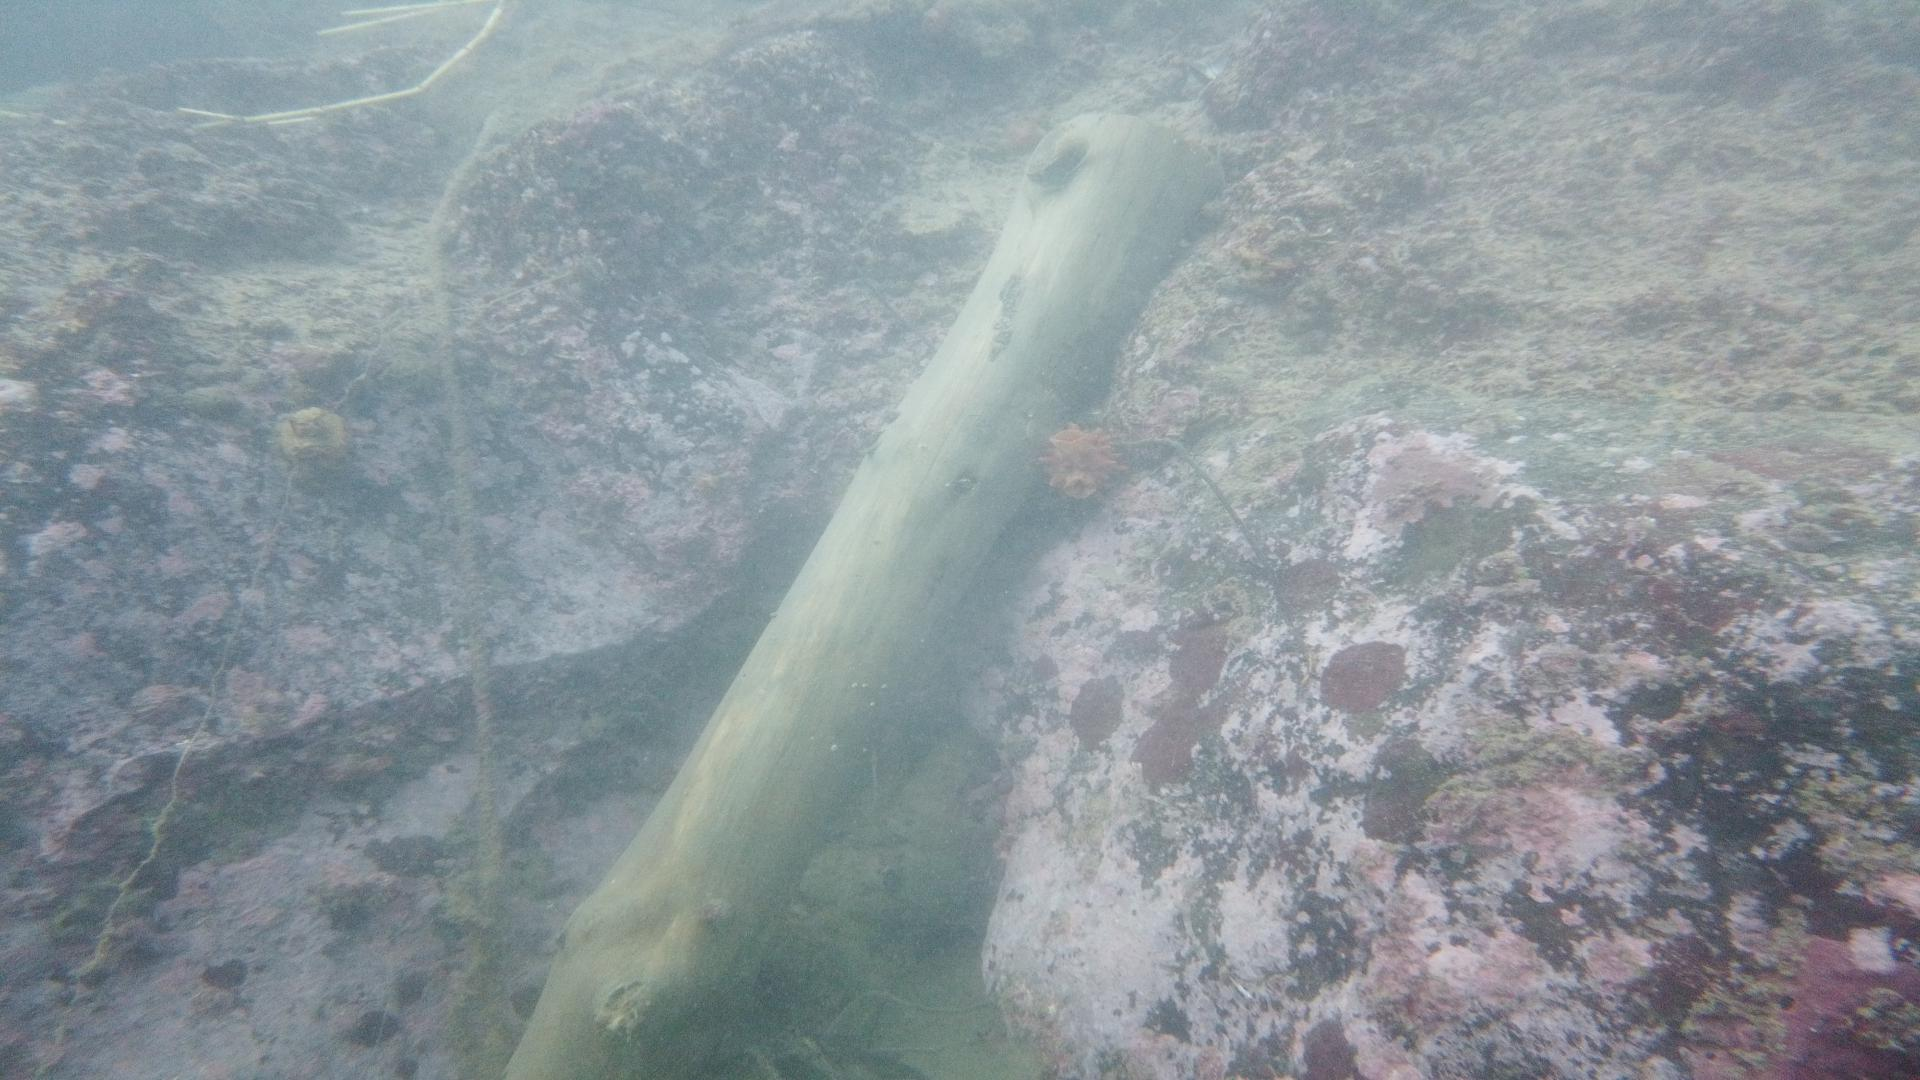rope: (433, 107, 501, 887)
wood: (495, 109, 1221, 1080)
